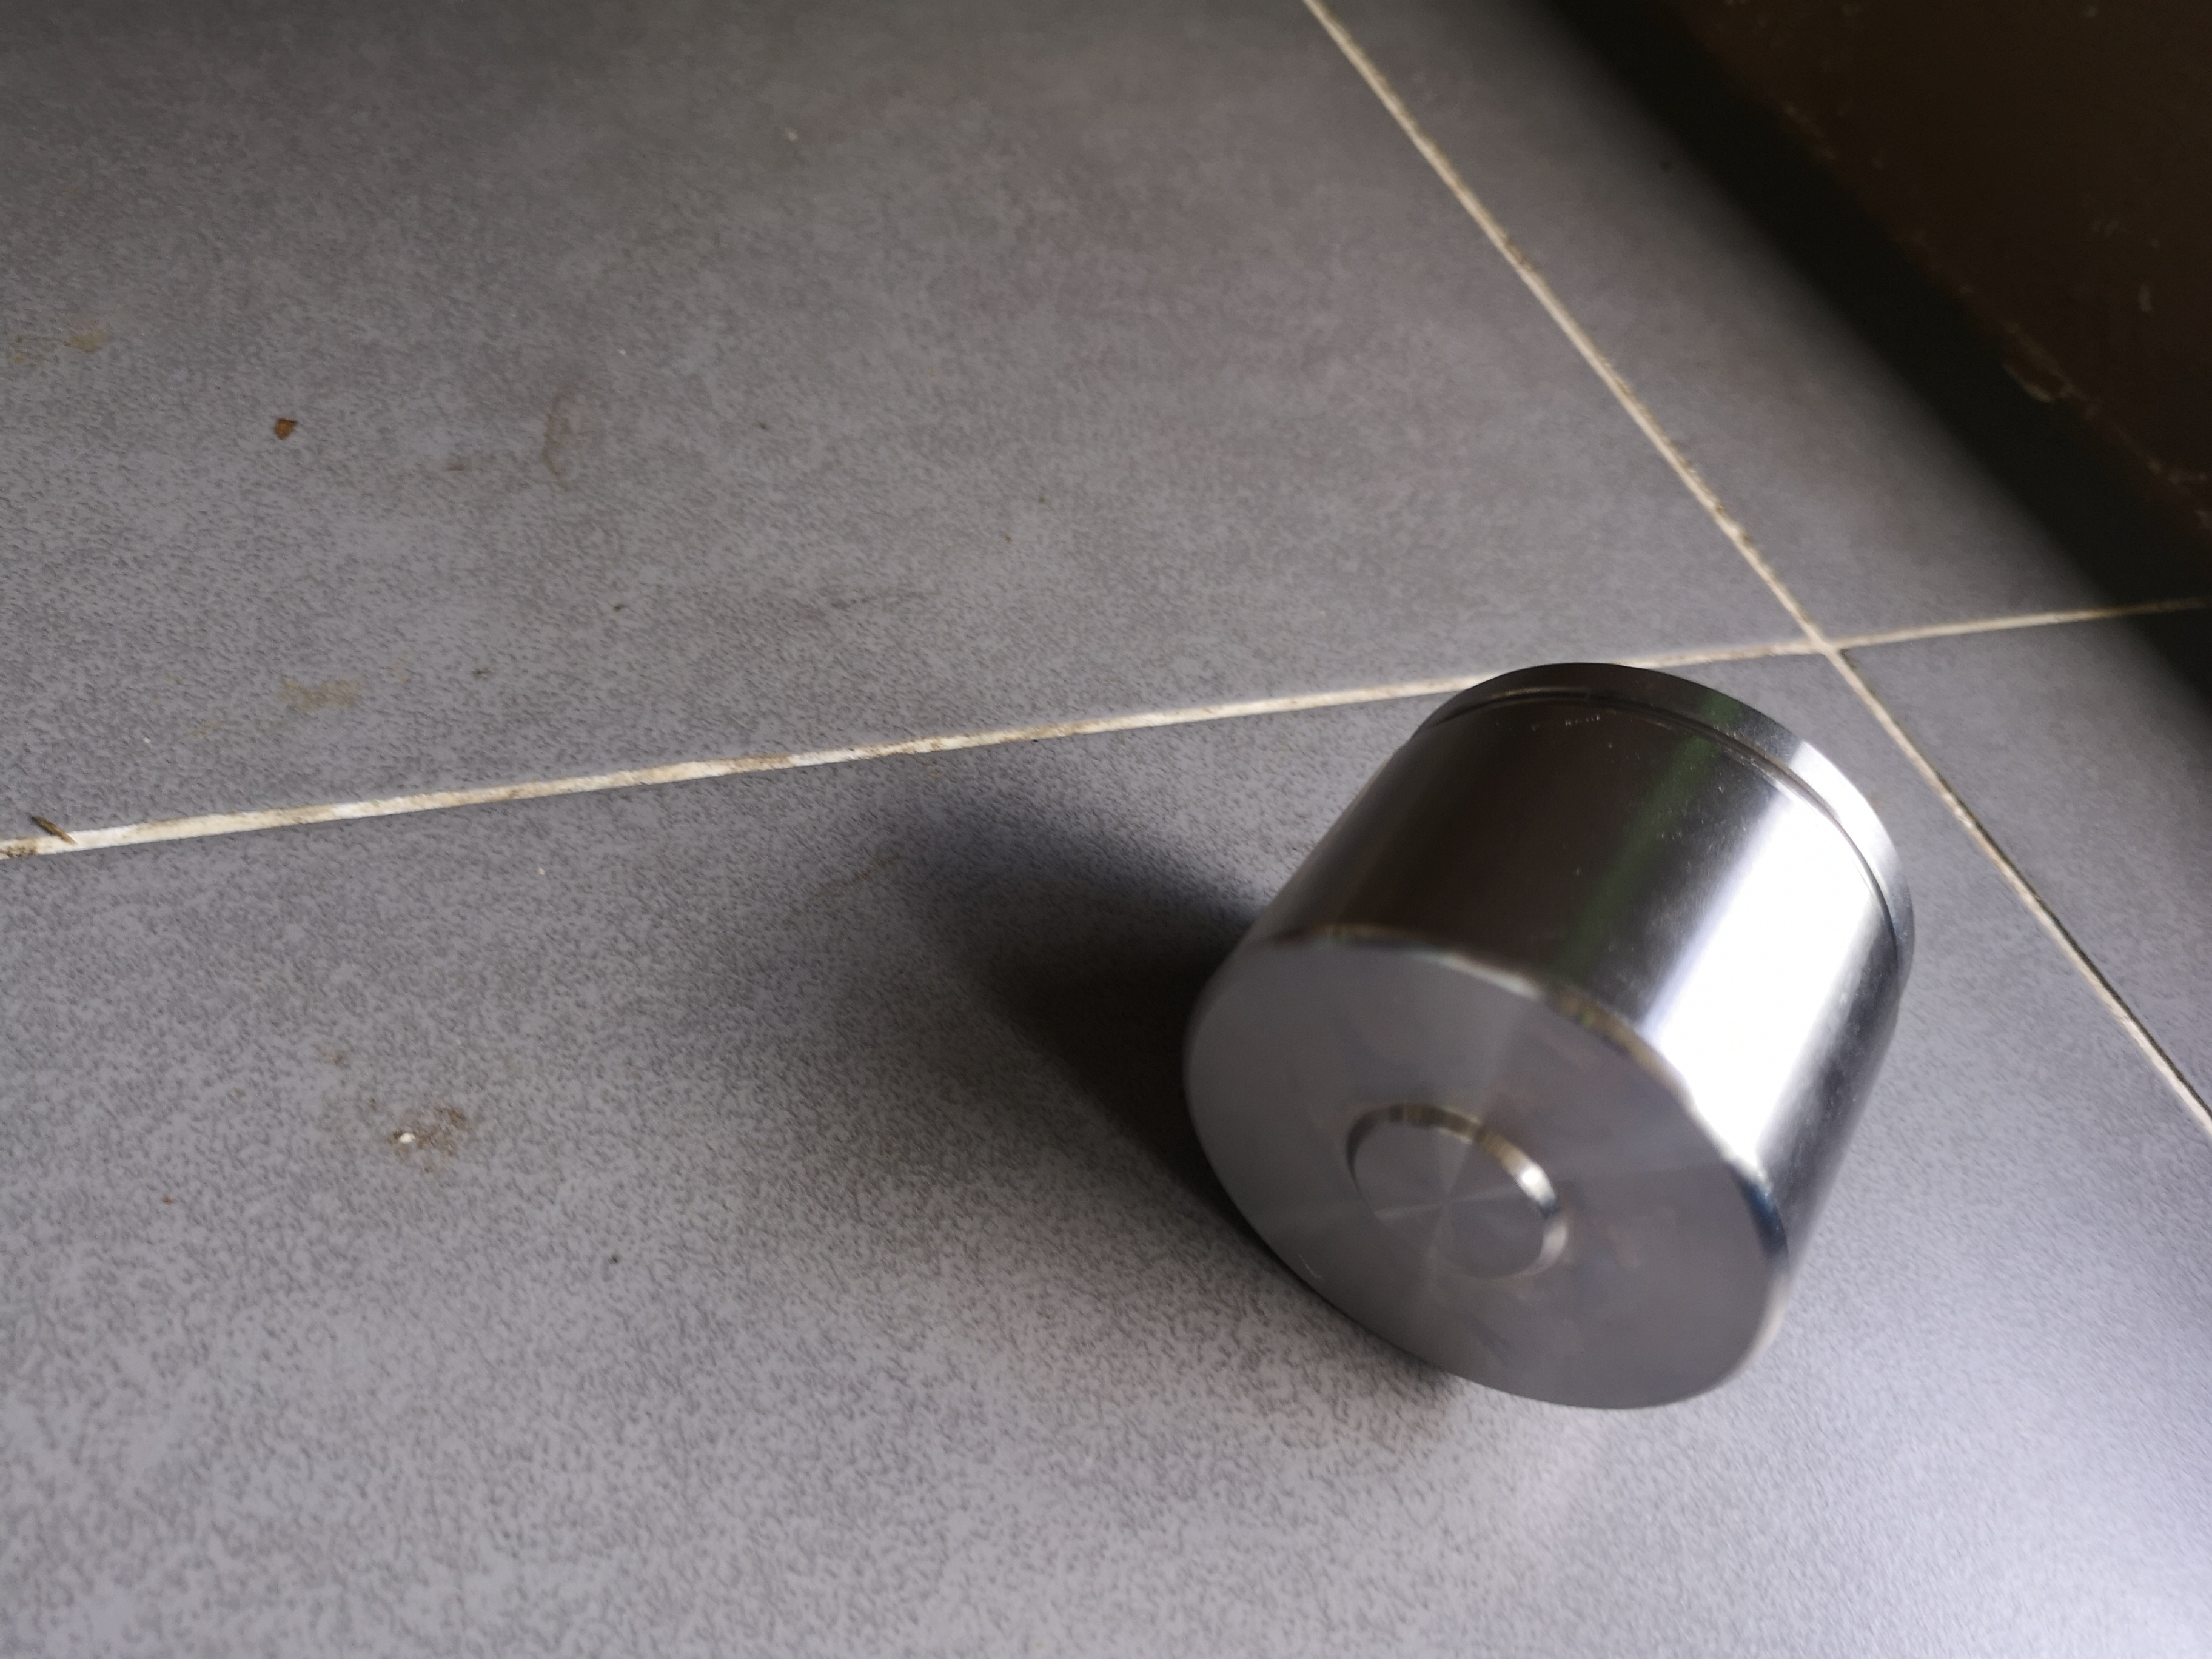ลูกสูบดิสเบรค: (1172, 634, 1939, 1422)
